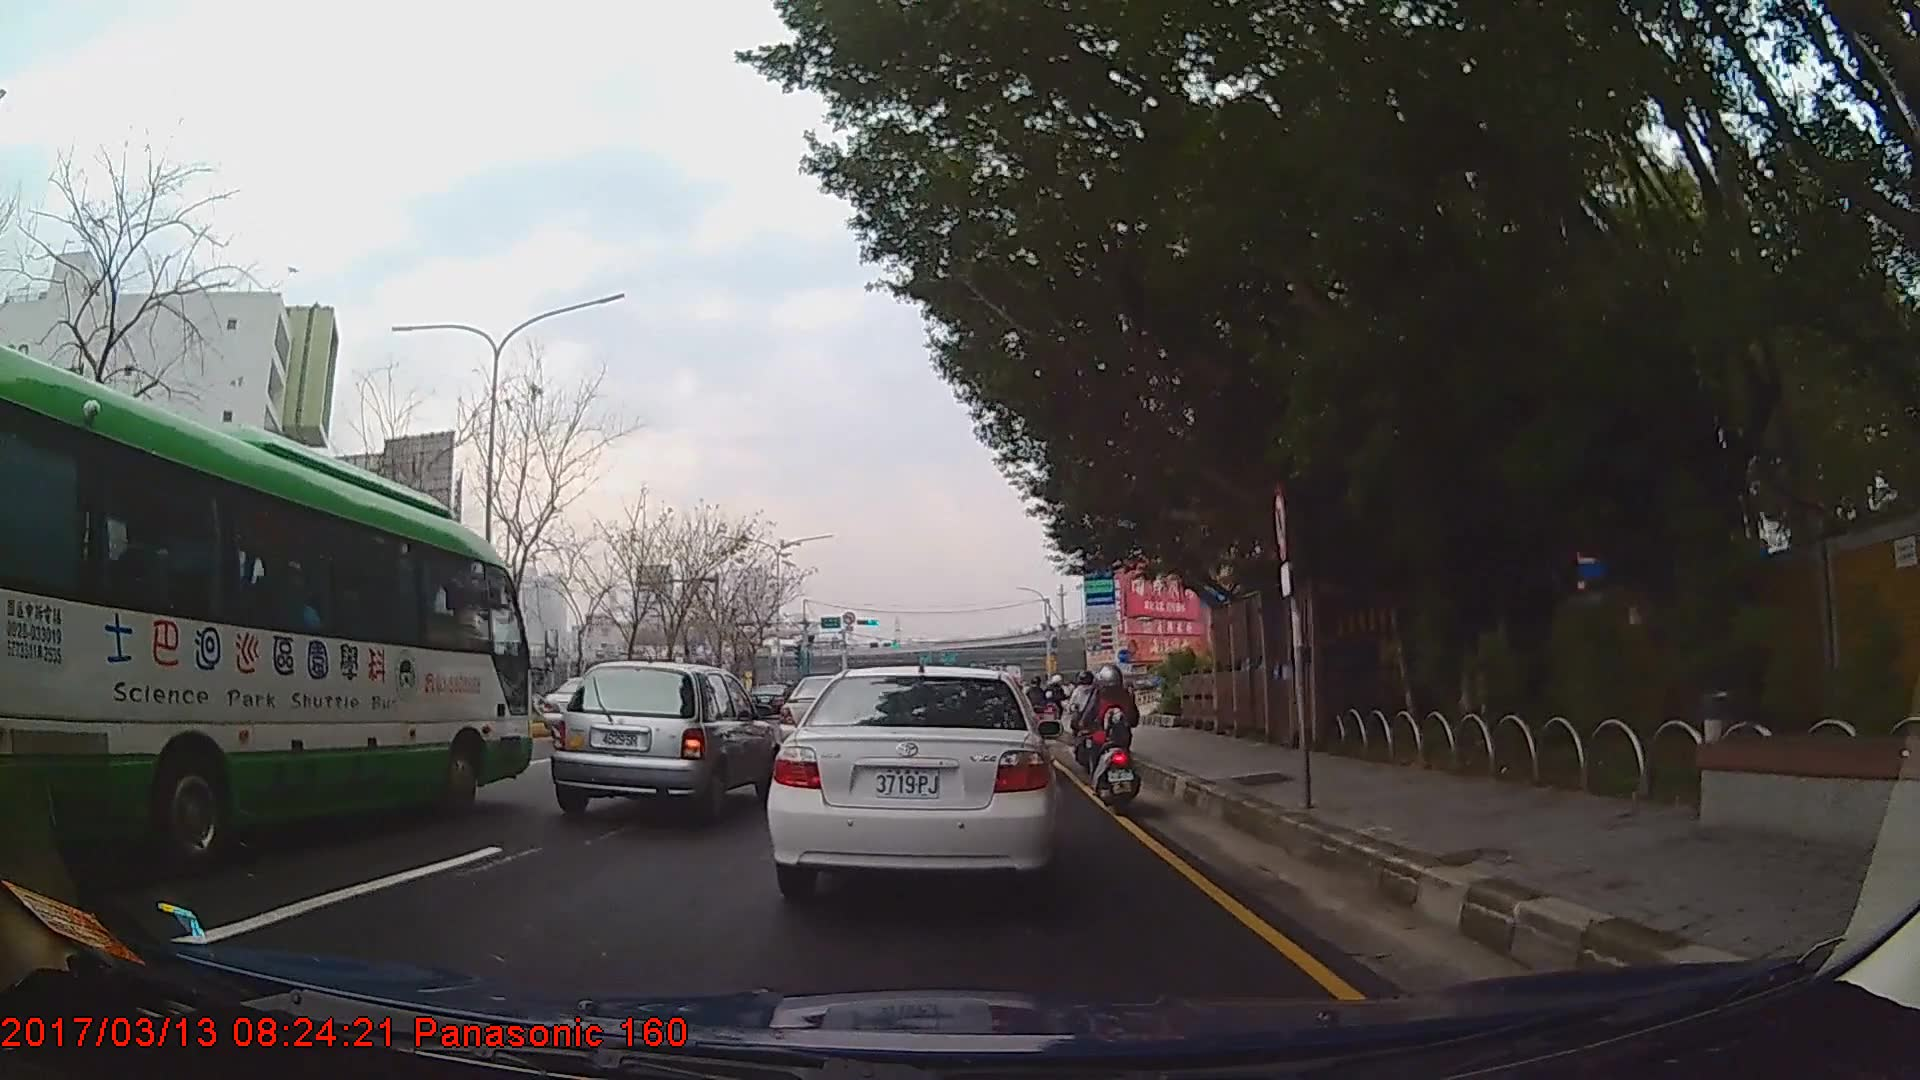rider: (1083, 660, 1146, 815), (1068, 670, 1107, 778), (1026, 676, 1051, 733)
vehicle: (0, 341, 529, 886), (766, 661, 1061, 899), (549, 659, 779, 827), (744, 682, 795, 717)
